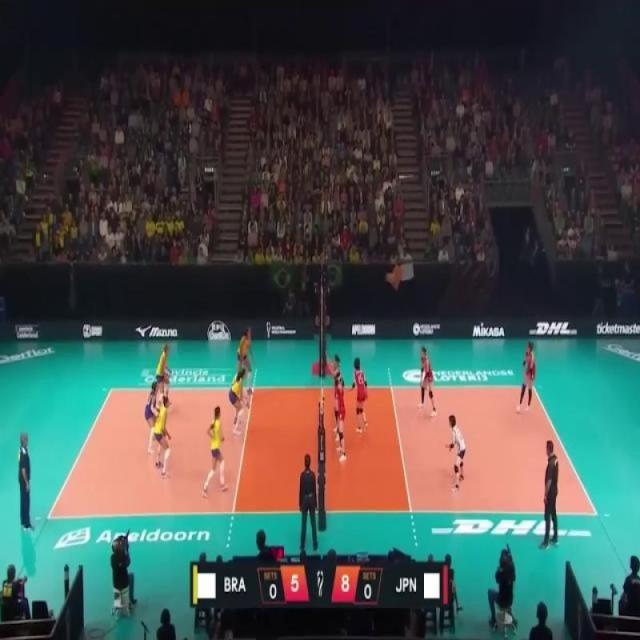volleyball: (384, 272, 396, 285)
